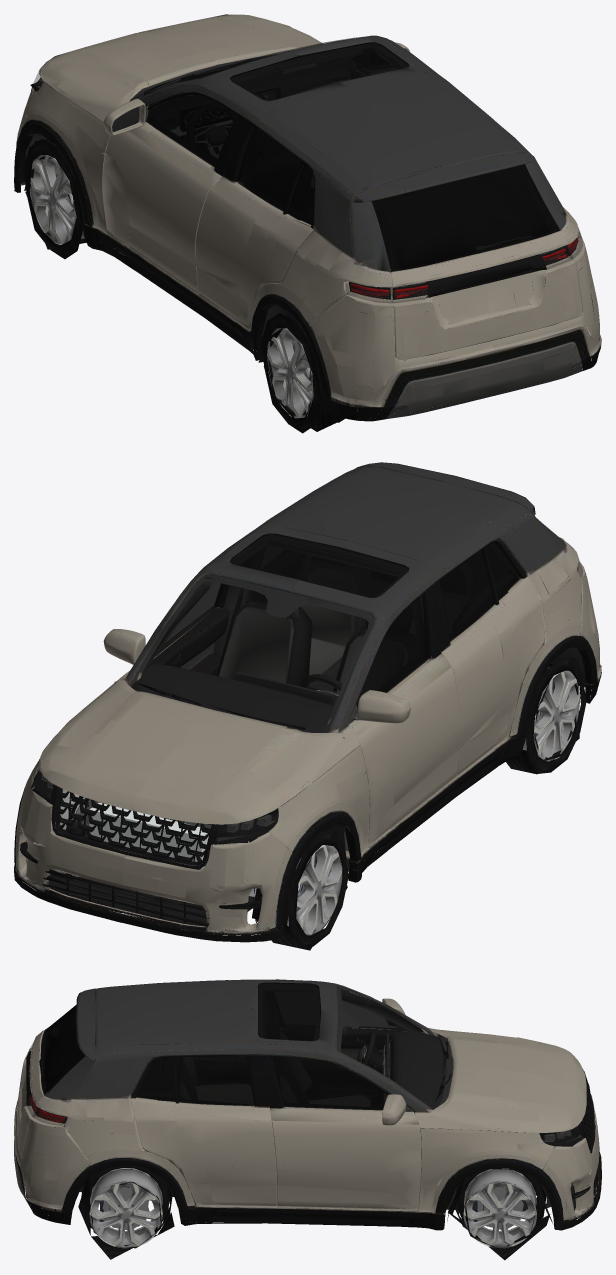
The model's file is savanna.glb.
3 renders of one model, top to bottom at view 1: azimuth 30°, elevation 25°; view 2: azimuth 150°, elevation 25°; view 3: azimuth 270°, elevation 25°, orthographic. The views are drawn at different scales.
Visible parts, largest first — view 1: body, door_FL, door_RL, wheel_RL, wheel_FL, steering_wheel, door_FR; view 2: body, door_FL, door_RL, wheel_FL, wheel_RL, door_FR, door_RR; view 3: body, door_FR, door_RR, wheel_RR, wheel_FR, door_FL, door_RL, steering_wheel.
Part boxes in pixels (x1,y1,x2,y2): body: [14, 14, 601, 421]; door_FL: [102, 91, 246, 294]; door_RL: [195, 118, 314, 330]; wheel_RL: [258, 313, 347, 433]; wheel_FL: [23, 139, 106, 259]; steering_wheel: [182, 103, 236, 158]; door_FR: [348, 51, 396, 78]; body: [14, 462, 601, 942]; door_FL: [347, 585, 460, 847]; door_RL: [433, 540, 544, 777]; wheel_FL: [252, 827, 348, 950]; wheel_RL: [506, 657, 586, 774]; door_FR: [128, 558, 229, 675]; door_RR: [250, 546, 313, 599]; body: [14, 979, 601, 1230]; door_FR: [258, 1055, 421, 1211]; door_RR: [130, 1054, 276, 1207]; wheel_RR: [78, 1166, 174, 1259]; wheel_FR: [448, 1168, 553, 1260]; door_FL: [275, 992, 407, 1104]; door_RL: [188, 1043, 250, 1085]; steering_wheel: [355, 1032, 384, 1077].
Bounding box in the file's own units: 1.95 × 1.59 × 4.19.
Materials: 16 (6 with a texture image).
